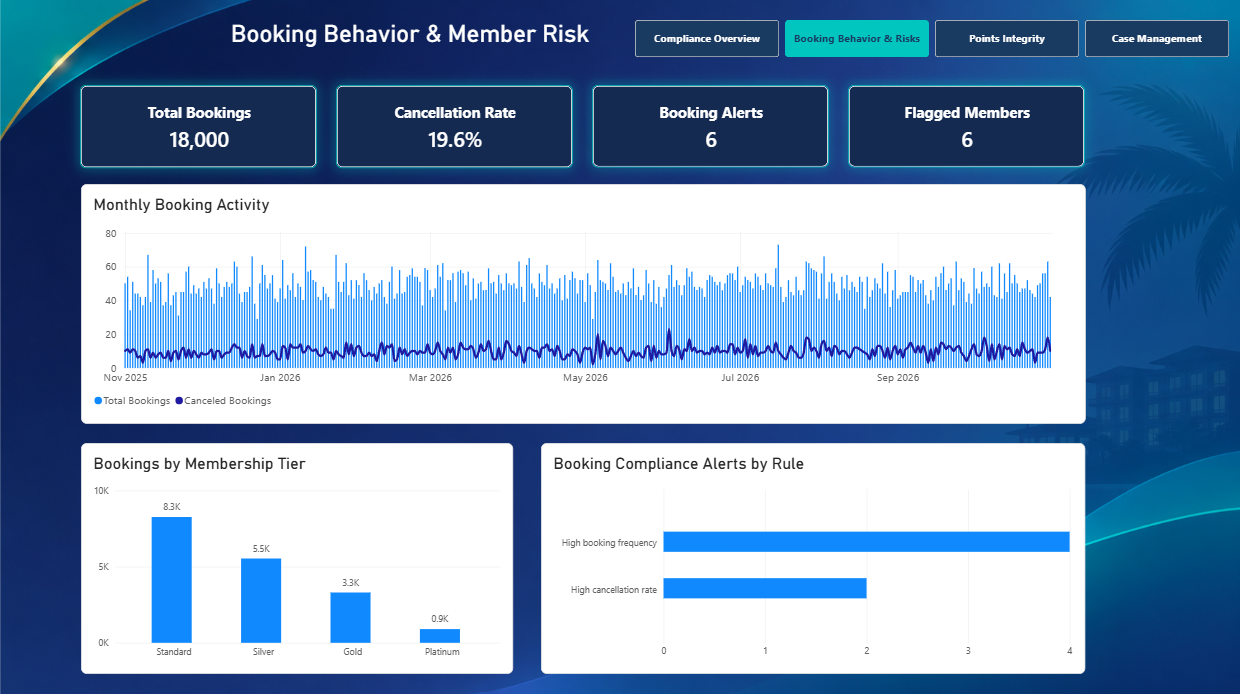

The dashboard page shown, as its layout file describes it:
{"tool":"powerbi","page":{"name":"Booking Behavior & Risks","canvas":[1920,1080],"ordinal":1},"visuals":[{"type":"cardVisual","fields":{"Data":["_Measures.Total Bookings"]},"box":[230.6,181.6,319,112.2],"z":0},{"type":"cardVisual","fields":{"Data":["_Measures.Cancellation Rate"]},"box":[575.3,182.4,319,112.2],"z":1000},{"type":"cardVisual","fields":{"Data":["_Measures.Booking Compliance Alerts"]},"box":[920.1,182.4,319,111.5],"z":2000},{"type":"cardVisual","fields":{"Data":["_Measures.Flagged Booking Members"]},"box":[1264.8,182.4,319,111.5],"z":3000},{"type":"textbox","title":"Booking Behavior & Member Risk","box":[434,94.6,498.2,38],"z":6000},{"type":"lineClusteredColumnComboChart","title":"Monthly Booking Activity","fields":{"Category":["FactReservation.BookingDate"],"Y":["_Measures.Total Bookings"],"Y2":["_Measures.Canceled Bookings"]},"box":[231.3,315.8,1352.6,322.5],"z":7000},{"type":"clusteredBarChart","title":"Booking Compliance Alerts by Rule","fields":{"Category":["DimComplianceRule.RuleName"],"Y":["_Measures.Booking Compliance Alerts"]},"box":[851.1,663.6,732.9,310.7],"z":8000},{"type":"clusteredColumnChart","title":"Bookings by Membership Tier","fields":{"Category":["DimMember.MembershipTier"],"Y":["_Measures.Total Bookings"]},"box":[231.3,663.6,581.7,311.1],"z":10000},{"type":"pageNavigator","box":[977.7,94.6,800,50],"z":10001}]}

Visuals, with their boxes in screenshot pixels (x1, y1, x2, y2), scaled from the page's 1920x1080 canvas onto the 1240x694 screenshot:
cardVisual - _Measures.Total Bookings: x1=149, y1=117, x2=355, y2=189
cardVisual - _Measures.Cancellation Rate: x1=372, y1=117, x2=578, y2=189
cardVisual - _Measures.Booking Compliance Alerts: x1=594, y1=117, x2=800, y2=189
cardVisual - _Measures.Flagged Booking Members: x1=817, y1=117, x2=1023, y2=189
"Booking Behavior & Member Risk" textbox: x1=280, y1=61, x2=602, y2=85
"Monthly Booking Activity" lineClusteredColumnComboChart: x1=149, y1=203, x2=1023, y2=410
"Booking Compliance Alerts by Rule" clusteredBarChart: x1=550, y1=426, x2=1023, y2=626
"Bookings by Membership Tier" clusteredColumnChart: x1=149, y1=426, x2=525, y2=626
pageNavigator: x1=631, y1=61, x2=1148, y2=93
